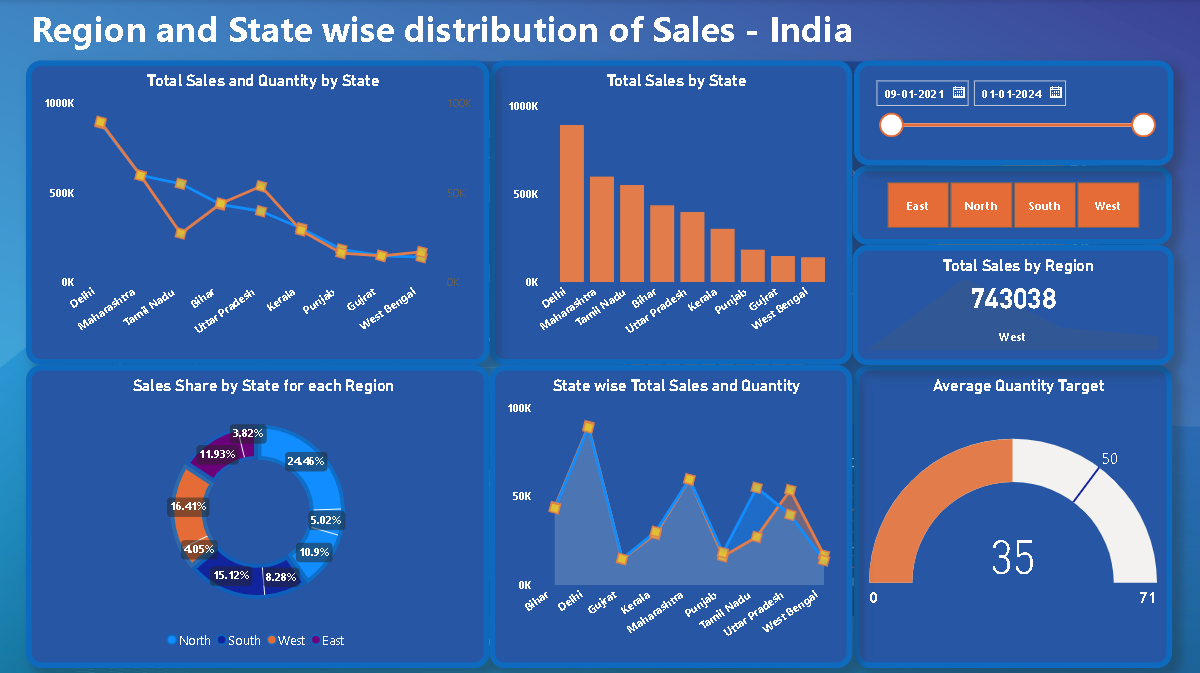

Layout of this report page (visuals, bound fields, positions):
{"tool":"powerbi","page":{"name":"Dashboard","canvas":[1280,720],"ordinal":0},"visuals":[{"type":"clusteredColumnChart","title":"Total Sales by State","fields":{"Category":["Folder1.State"],"Y":["Sum(Folder1.Sales Amount)"]},"box":[520.1,65.2,384.9,322.9],"z":0},{"type":"lineChart","title":"Total Sales and Quantity by State","fields":{"Y":["Sum(Folder1.Sales Amount)"],"Y2":["Sum(Folder1.Quantity)"],"Category":["Folder1.State"]},"box":[28.6,65.2,491.5,322.9],"z":1000},{"type":"gauge","title":"Average Quantity Target","fields":{"Y":["Avg(Folder1.Quantity)"]},"box":[906.6,388.1,337.2,321.3],"z":2000},{"type":"donutChart","title":"Sales Share by State for each Region","fields":{"Y":["Sum(Folder1.Sales Amount)"],"Category":["Folder1.Region"],"Series":["Folder1.State"]},"box":[28.6,388.1,491.5,321.3],"z":3000},{"type":"areaChart","title":"State wise Total Sales and Quantity","fields":{"Category":["Folder1.Region","Folder1.State"],"Y":["Sum(Folder1.Quantity)"],"Y2":["Sum(Folder1.Sales Amount)"]},"box":[520.1,388.1,384.9,321.3],"z":4000},{"type":"slicer","fields":{"Values":["Folder1.Region"]},"box":[905.1,176.6,338.8,84.3],"z":5000},{"type":"slicer","fields":{"Values":["Folder1.Date"]},"box":[906.6,65.2,338.8,111.3],"z":6000},{"type":"textbox","box":[28.6,0,941.6,65.2],"z":7000},{"type":"kpi","title":"Total Sales by Region","fields":{"Indicator":["Sum(Folder1.Sales Amount)"],"TrendLine":["Folder1.Region"]},"box":[905.1,260.9,340.4,127.2],"z":8000}]}

Visuals, with their boxes in screenshot pixels (x1, y1, x2, y2), scaled from the page's 1280x720 canvas onto the 1200x673 screenshot:
"Total Sales by State" clusteredColumnChart: box=[488, 61, 848, 363]
"Total Sales and Quantity by State" lineChart: box=[27, 61, 488, 363]
"Average Quantity Target" gauge: box=[850, 363, 1166, 663]
"Sales Share by State for each Region" donutChart: box=[27, 363, 488, 663]
"State wise Total Sales and Quantity" areaChart: box=[488, 363, 848, 663]
slicer - Folder1.Region: box=[849, 165, 1166, 244]
slicer - Folder1.Date: box=[850, 61, 1168, 165]
textbox: box=[27, 0, 910, 61]
"Total Sales by Region" kpi: box=[849, 244, 1168, 363]
